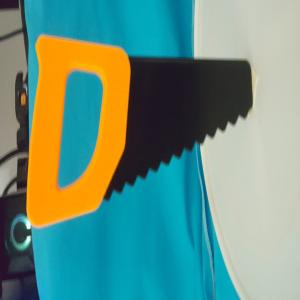serrote: (26, 33, 254, 229)
